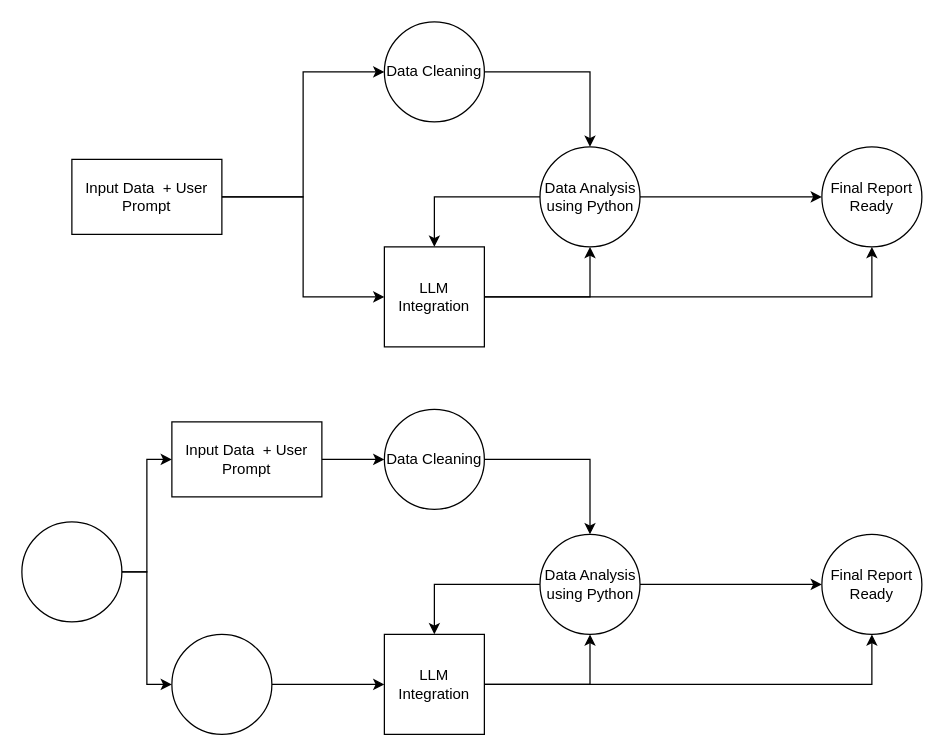
Some shapes in this 944 by 756 pixel diagram are drawn without their labels. Here are the shapes that lost their labels. From the top down, the box of each, then its label:
(21, 521, 122, 622): Trigger
(171, 633, 272, 734): User Prompt
